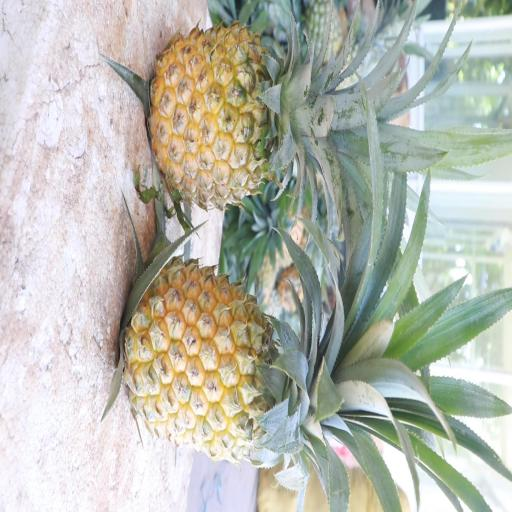Pineapple - v8 v1: (122, 254, 376, 468), (146, 17, 352, 216)
